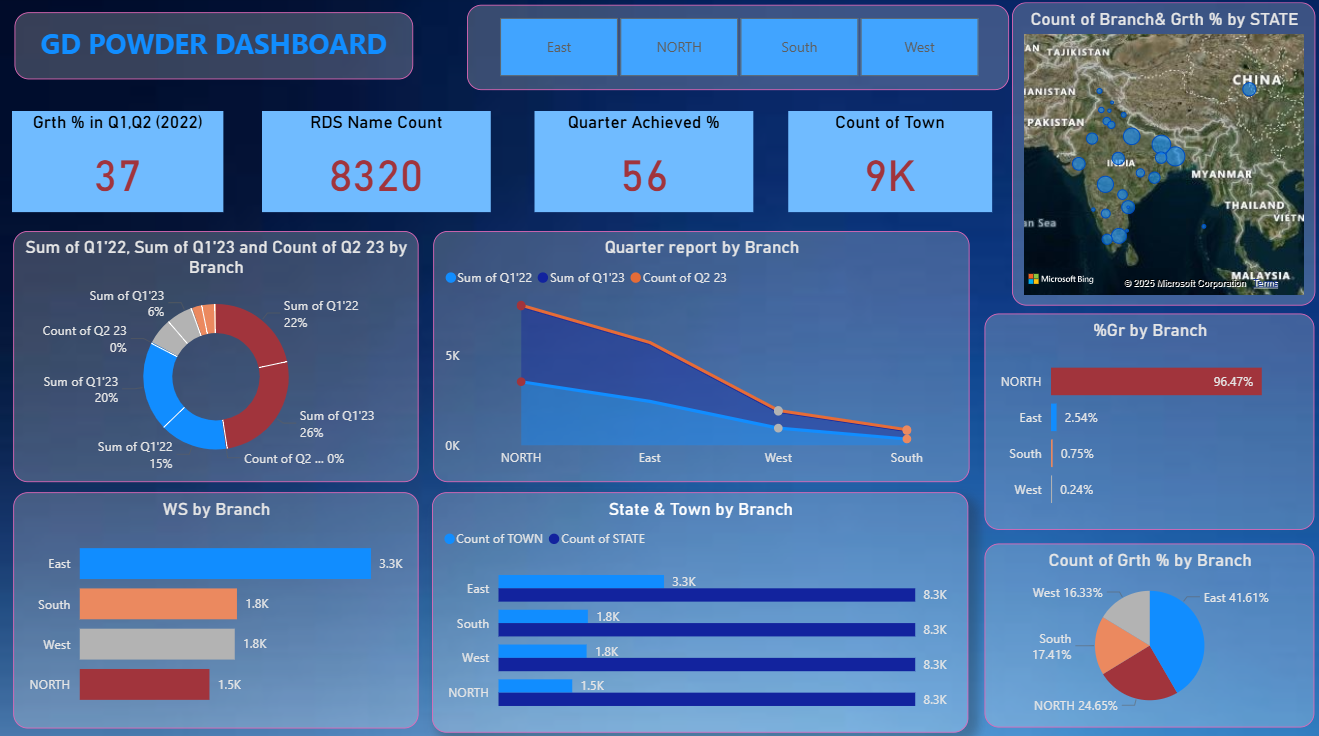

The dashboard page shown, as its layout file describes it:
{"tool":"powerbi","page":{"name":"GD POWDER","canvas":[1280,720],"ordinal":0},"visuals":[{"type":"clusteredBarChart","title":"WS by Branch","fields":{"Category":["GD Powder.Branch"],"Y":["CountNonNull(GD Powder.WS Name)"]},"box":[15.7,479,390.9,228],"z":0},{"type":"clusteredBarChart","title":"State & Town by Branch","fields":{"Category":["GD Powder.Branch"],"Y":["CountNonNull(GD Powder.TOWN)","CountNonNull(NY Talc.STATE)"]},"box":[419.8,479,517.6,231.6],"z":1000},{"type":"clusteredBarChart","title":"%Gr by Branch","fields":{"Category":["GD Powder.Branch"],"Y":["Sum(GD Powder.% GR)"]},"box":[953.1,306.4,318.5,208.7],"z":2000},{"type":"stackedAreaChart","title":"Quarter report by Branch","fields":{"Category":["GD Powder.Branch"],"Y":["Sum(GD Powder.Q1'22)","Sum(GD Powder.Q1'23)","CountNonNull(Q2'23 Summary.Column7)"]},"box":[421,226.8,517.6,242.5],"z":3000},{"type":"map","title":"Count of Branch&  Grth % by STATE","fields":{"Category":["GD Powder.STATE"],"Size":["CountNonNull(GD Powder.Branch)"]},"box":[979.6,6,293.2,293.2],"z":4000},{"type":"donutChart","fields":{"Category":["GD Powder.Branch"],"Y":["Sum(GD Powder.Q1'22)","Sum(GD Powder.Q1'23)","CountNonNull(Q2'23 Summary.Q2 23)"]},"box":[15.7,226.8,390.9,242.5],"z":5000},{"type":"pieChart","fields":{"Category":["GD Powder.Branch"],"Y":["Count(GD Powder.Grth %)"]},"box":[953.1,528.4,318.5,177.3],"z":6000},{"type":"slicer","fields":{"Values":["GD Powder.Branch"]},"box":[453.6,8.4,523.6,82],"z":7000},{"type":"textbox","box":[16.9,15.7,384.9,65.1],"z":8000},{"type":"card","title":"Grth % in Q1,Q2 (2022)","fields":{"Values":["Sum(GD Powder.Grth %)","select","select1"]},"box":[14.5,111,203.9,97.7],"z":9000},{"type":"card","title":"RDS Name Count","fields":{"Values":["CountNonNull(GD Powder.RDS Name)"]},"box":[255.8,111,220.8,97.7],"z":10000},{"type":"card","title":"Quarter Achieved %","fields":{"Values":["Sum(GD Powder.Qtr Ach %)","select"]},"box":[518.8,111,211.1,97.7],"z":11000},{"type":"card","title":"Count of Town","fields":{"Values":["CountNonNull(GD Powder.TOWN)","select"]},"box":[763.7,111,196.6,97.7],"z":12000}]}

Visuals, with their boxes in screenshot pixels (x1, y1, x2, y2), scaled from the page's 1280x720 canvas onto the 1319x736 screenshot:
"WS by Branch" clusteredBarChart: 16 490 419 723
"State & Town by Branch" clusteredBarChart: 433 490 966 726
"%Gr by Branch" clusteredBarChart: 982 313 1310 527
"Quarter report by Branch" stackedAreaChart: 434 232 967 480
"Count of Branch&  Grth % by STATE" map: 1009 6 1312 306
donutChart - GD Powder.Branch x Sum(GD Powder.Q1'22): 16 232 419 480
pieChart - GD Powder.Branch x Count(GD Powder.Grth %): 982 540 1310 721
slicer - GD Powder.Branch: 467 9 1007 92
textbox: 17 16 414 83
"Grth % in Q1,Q2 (2022)" card: 15 113 225 213
"RDS Name Count" card: 264 113 491 213
"Quarter Achieved %" card: 535 113 752 213
"Count of Town" card: 787 113 990 213
